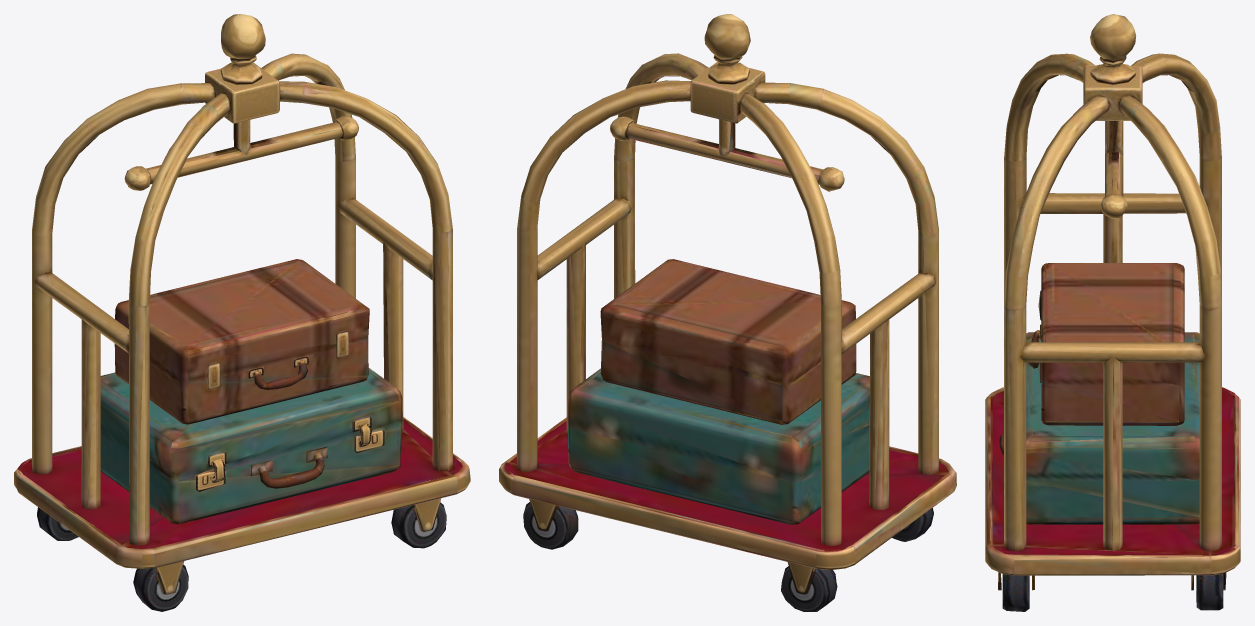
The model's file is item-luggageCart.glb.
3 renders of one model, left to right at view 1: azimuth 30°, elevation 25°; view 2: azimuth 150°, elevation 25°; view 3: azimuth 270°, elevation 25°, orthographic.
Size of the model in its own units: 0.6714 by 0.9512 by 0.4165.
Materials: 1 (1 with a texture image).
